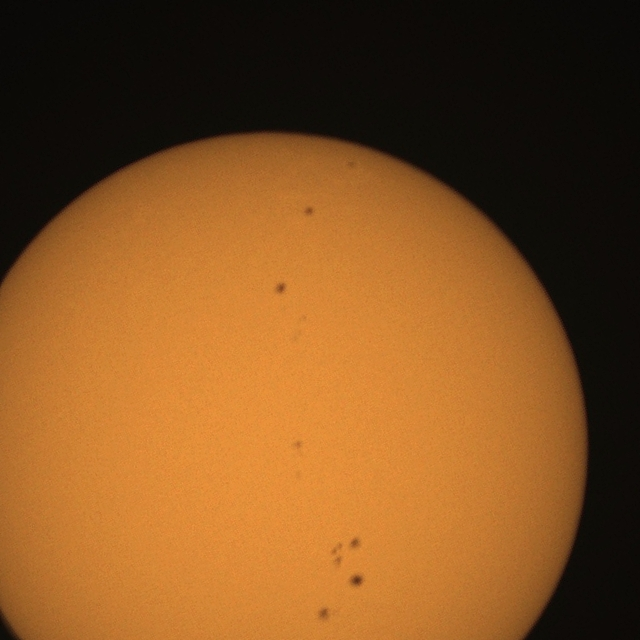sunspot: (328, 537, 361, 565), (317, 606, 333, 623), (348, 573, 365, 589), (349, 536, 362, 551), (274, 281, 287, 296), (303, 205, 315, 218)
